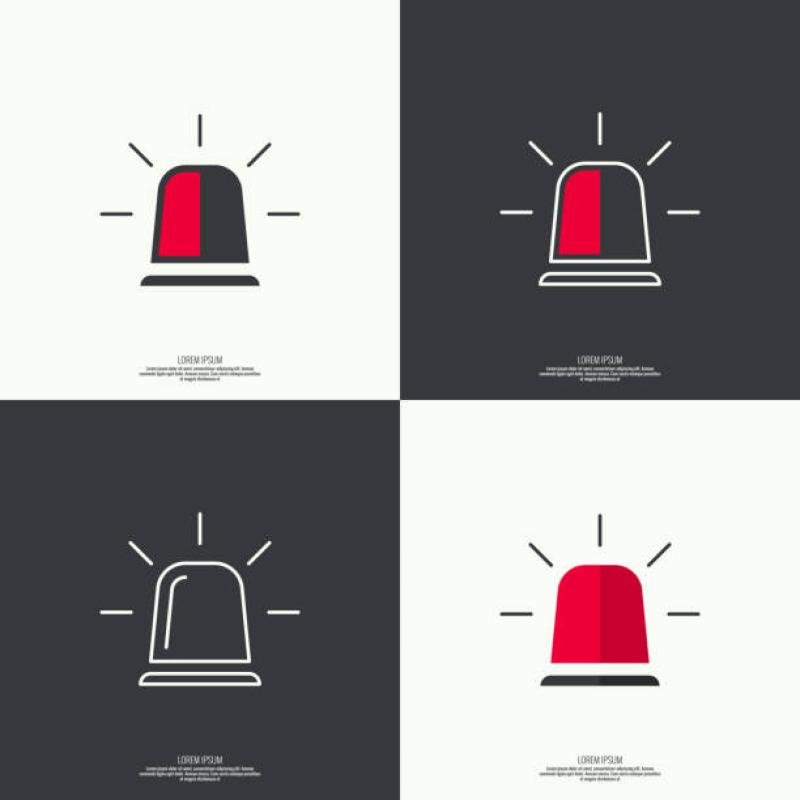AmbulanceSiren: (516, 549, 713, 720)
